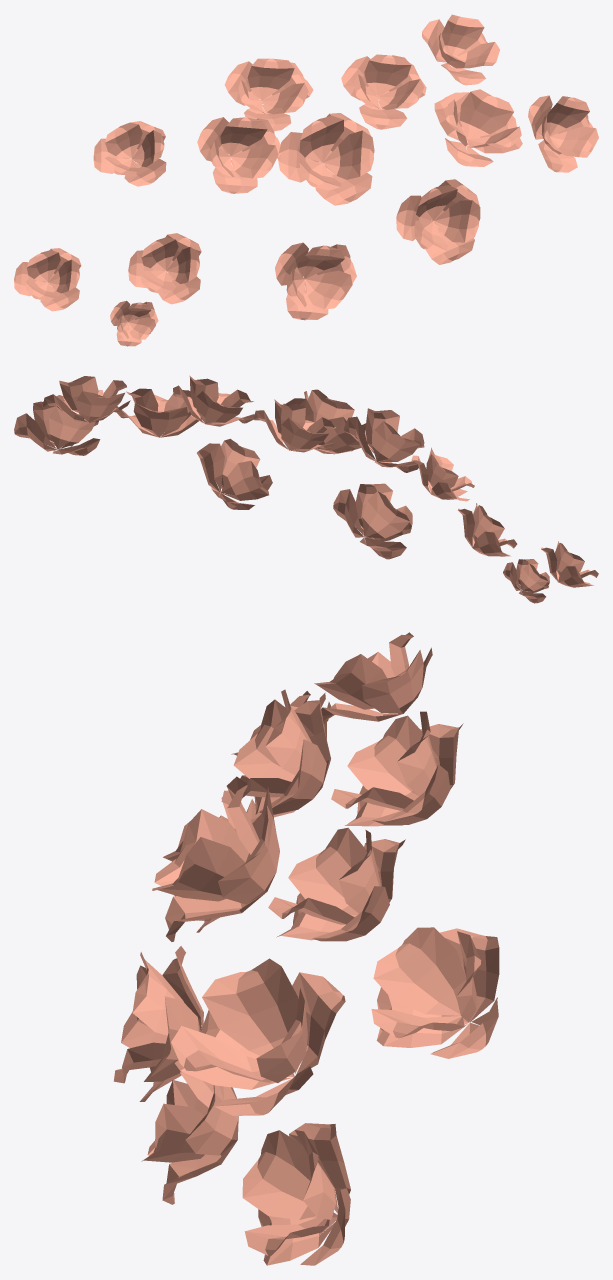
Rendered from 30_openskp_material_68.003.obj.
3 views of the same model, one above another, from view 1: azimuth 30°, elevation 25°; view 2: azimuth 150°, elevation 25°; view 3: azimuth 270°, elevation 25° (orthographic). The views are drawn at different scales.
Visible parts, largest first — view 1: 30_openskp_material_68.003; view 2: 30_openskp_material_68.003; view 3: 30_openskp_material_68.003.
Boxes of the visible parts, left/top/right/bottom form: 30_openskp_material_68.003: left=14, top=14, right=598, bottom=346; 30_openskp_material_68.003: left=14, top=375, right=598, bottom=603; 30_openskp_material_68.003: left=113, top=632, right=499, bottom=1265.
Size of the model in its own units: 13.82 by 4.65 by 4.04.
